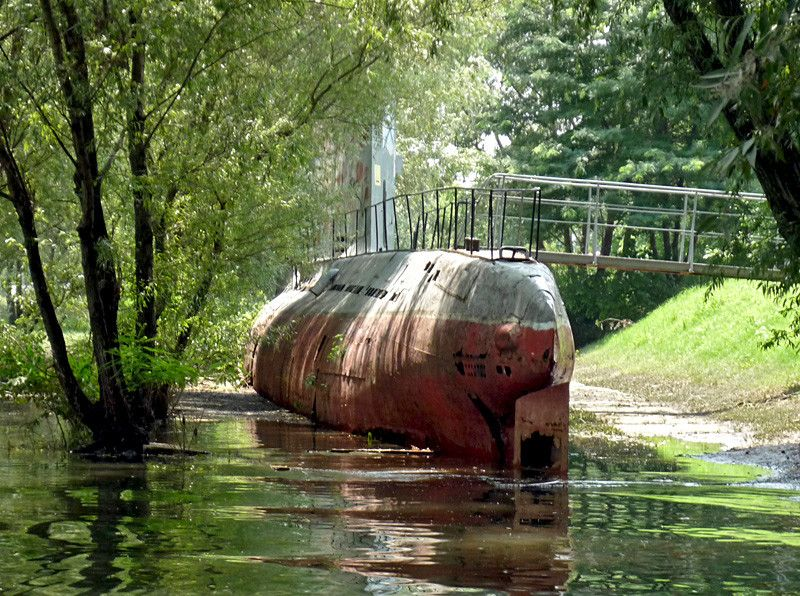rust: (279, 312, 570, 467)
